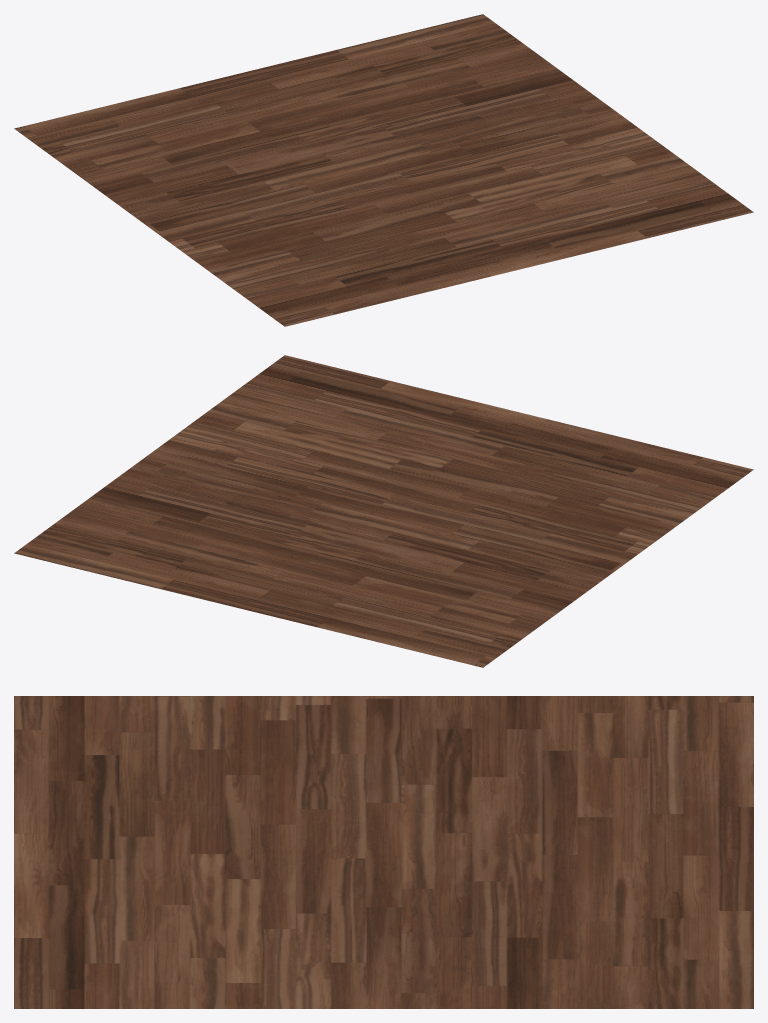
File: floor_1.glb
3 views of the same model, one above another, from view 1: azimuth 30°, elevation 25°; view 2: azimuth 150°, elevation 25°; view 3: azimuth 270°, elevation 25° (orthographic). The views are drawn at different scales.
Parts seen in each view (by area): view 1: Object_5; view 2: Object_5; view 3: Object_5.
Part boxes in pixels (<box>): Object_5: <box>14,14,753,326</box>; Object_5: <box>14,355,753,667</box>; Object_5: <box>14,696,753,1008</box>.
Size of the model in its own units: 9.16 by 0 by 9.16.
1 material, 1 textured.
